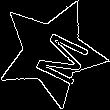M_NW: (19, 20, 85, 85)
